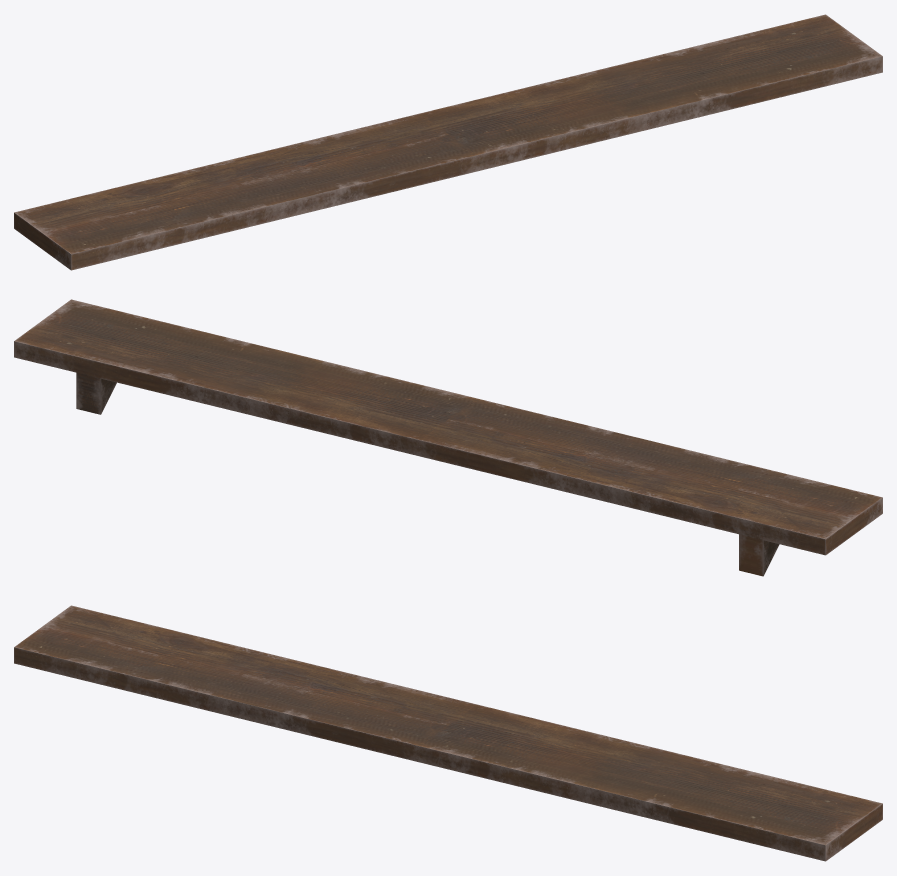
Rendered from single_wood_shelf.obj.
3 views of the same model, one above another, from view 1: azimuth 30°, elevation 25°; view 2: azimuth 150°, elevation 25°; view 3: azimuth 330°, elevation 25° (orthographic).
Visible parts, largest first — view 1: Object_4; view 2: Object_4; view 3: Object_4.
Part boxes in pixels (x1=…): Object_4: x1=14, y1=14, x2=882, y2=270; Object_4: x1=14, y1=299, x2=882, y2=576; Object_4: x1=14, y1=605, x2=882, y2=861.
Size of the model in its own units: 1.71 by 0.1054 by 0.2084.
Materials: 1 (1 with a texture image).
